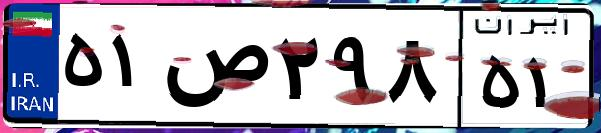1: (525, 38, 570, 115), (110, 28, 158, 98)
2: (270, 28, 330, 110)
5: (57, 26, 110, 100), (475, 38, 525, 113)
8: (385, 28, 445, 110)
9: (330, 28, 385, 110)
ص: (158, 20, 270, 120)
